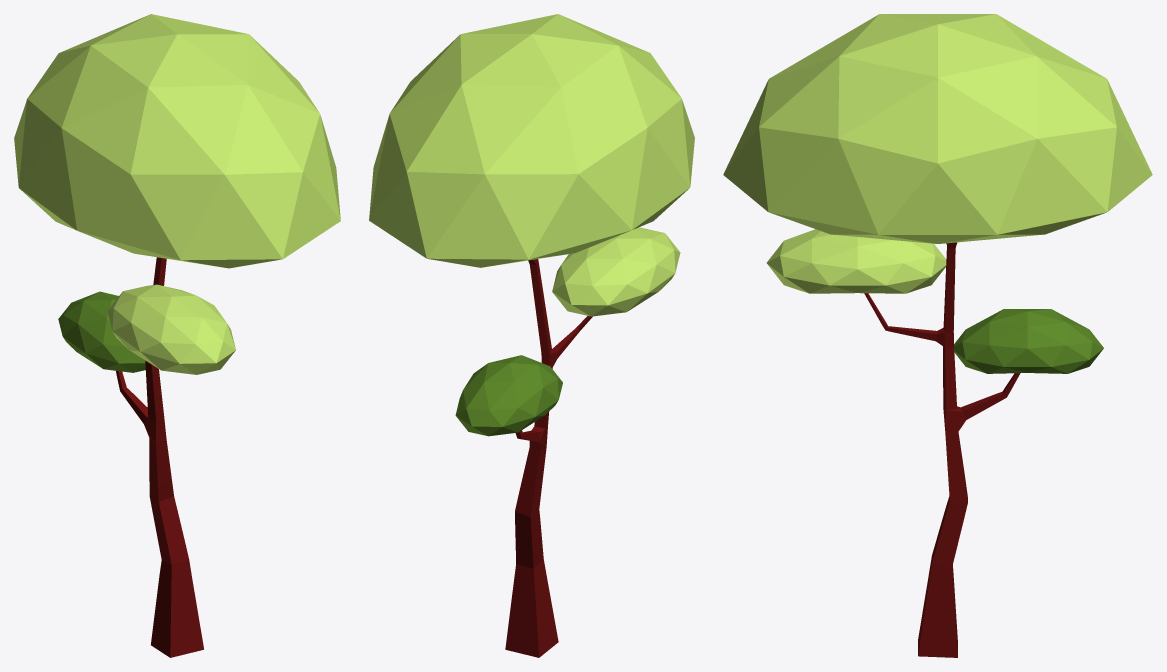
Rendered from tree_canopy.glb.
The picture shows the model from 3 angles, left to right: view 1: azimuth 30°, elevation 25°; view 2: azimuth 150°, elevation 25°; view 3: azimuth 270°, elevation 25°; orthographic projection. The views are drawn at different scales.
Parts seen in each view (by area): view 1: CanopyTree; view 2: CanopyTree; view 3: CanopyTree.
Part boxes in pixels (box(x1,y1,x2,y2)): CanopyTree: box(14, 14, 340, 657); CanopyTree: box(369, 14, 694, 657); CanopyTree: box(723, 14, 1152, 657).
Size of the model in its own units: 1.17 by 2.65 by 1.65.
1 material, 1 textured.
